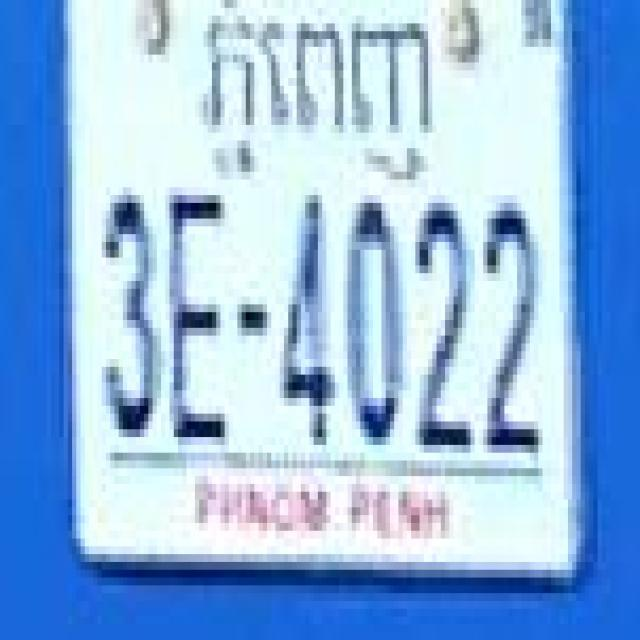Phnom_Penh: (208, 8, 436, 180)
